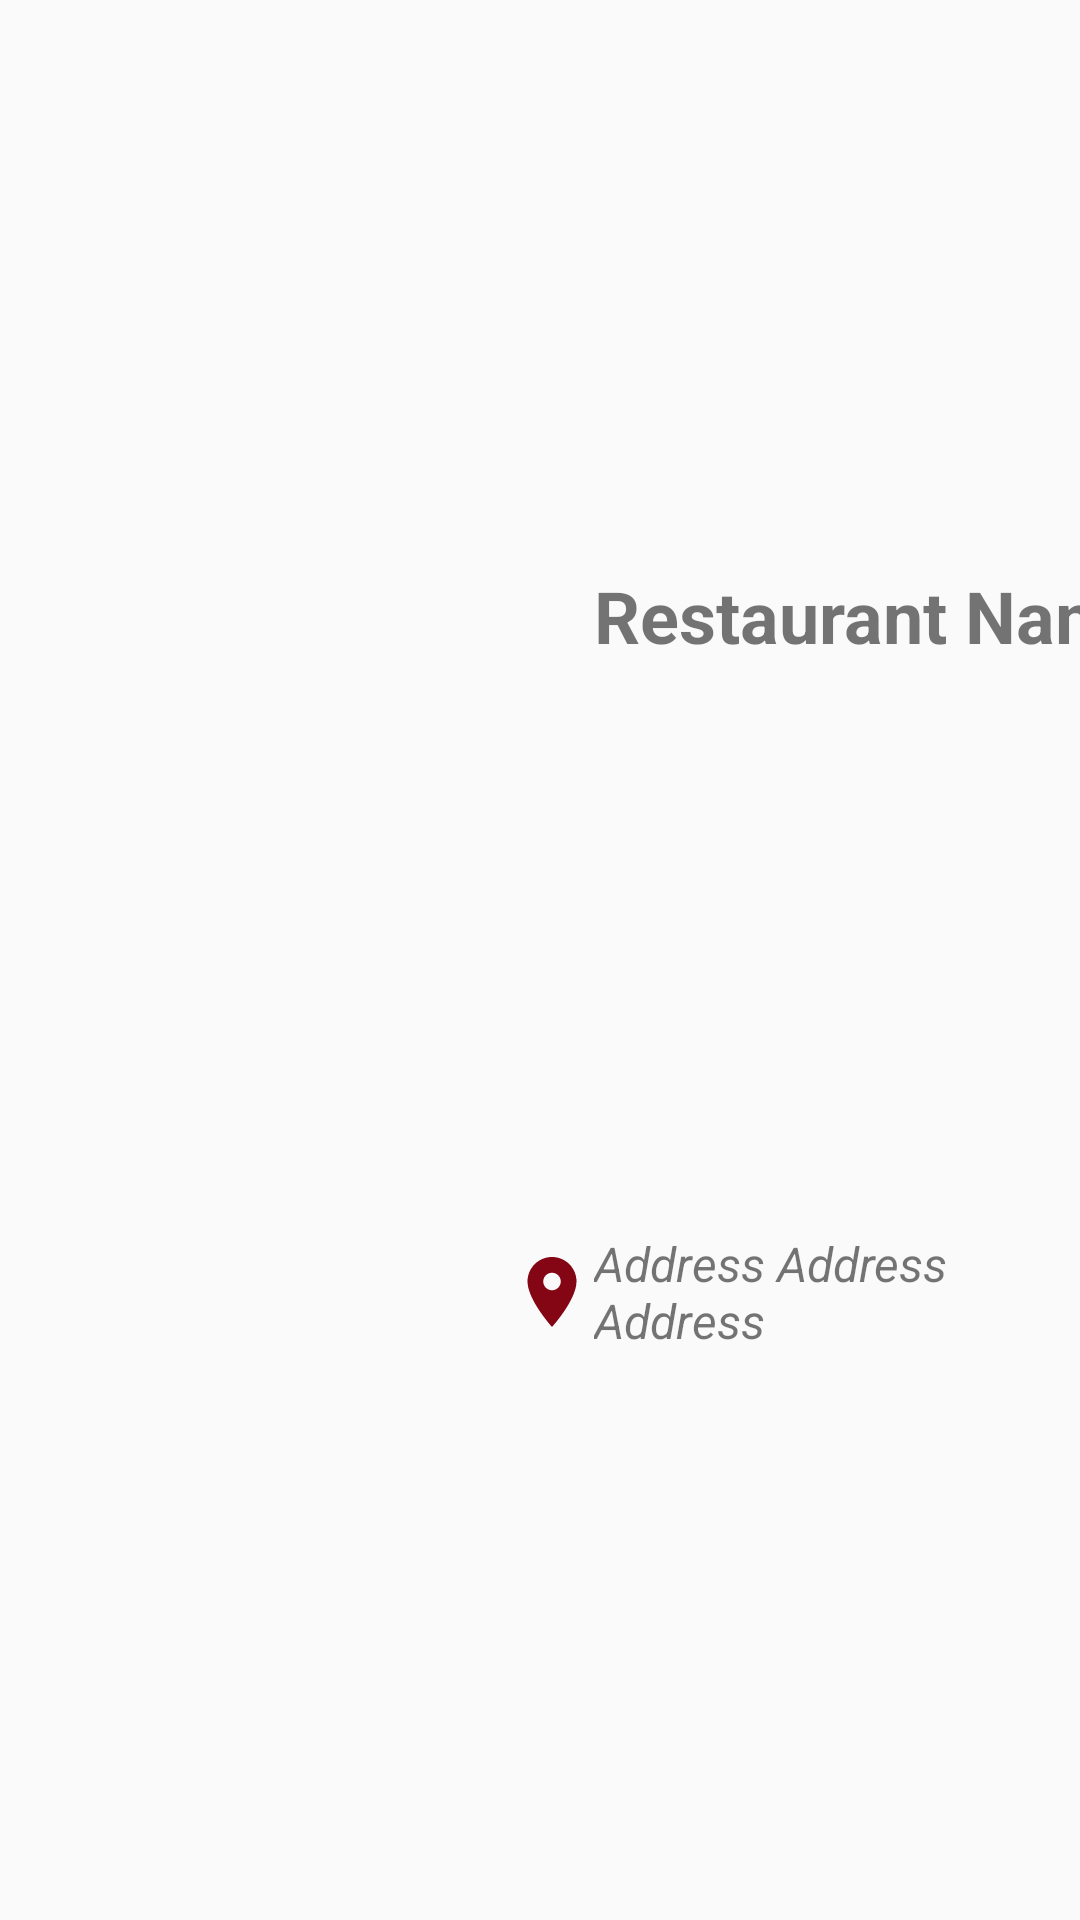

Point at icon controls on the screen. Image size 1080 × 1920, points as point (x, y).
location on: point (552, 1292)
